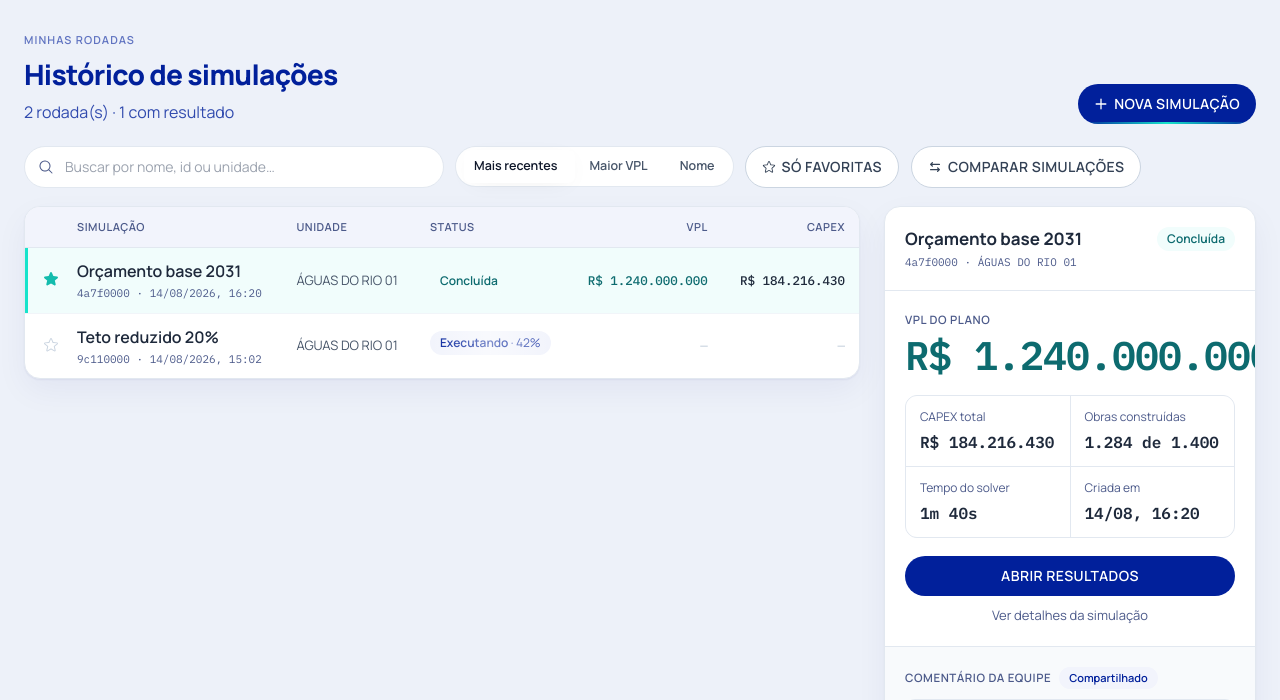
Test: Histórico — os três estados compartilhados › lista vazia POR FILTRO diz que é o filtro, não ausência de dado
Type "zzzznadaexiste" into the field with placeholder "Buscar por nome, id ou unidade…".
click(234, 166); type("zzzznadaexiste")  # box 24,146 -> 444,188
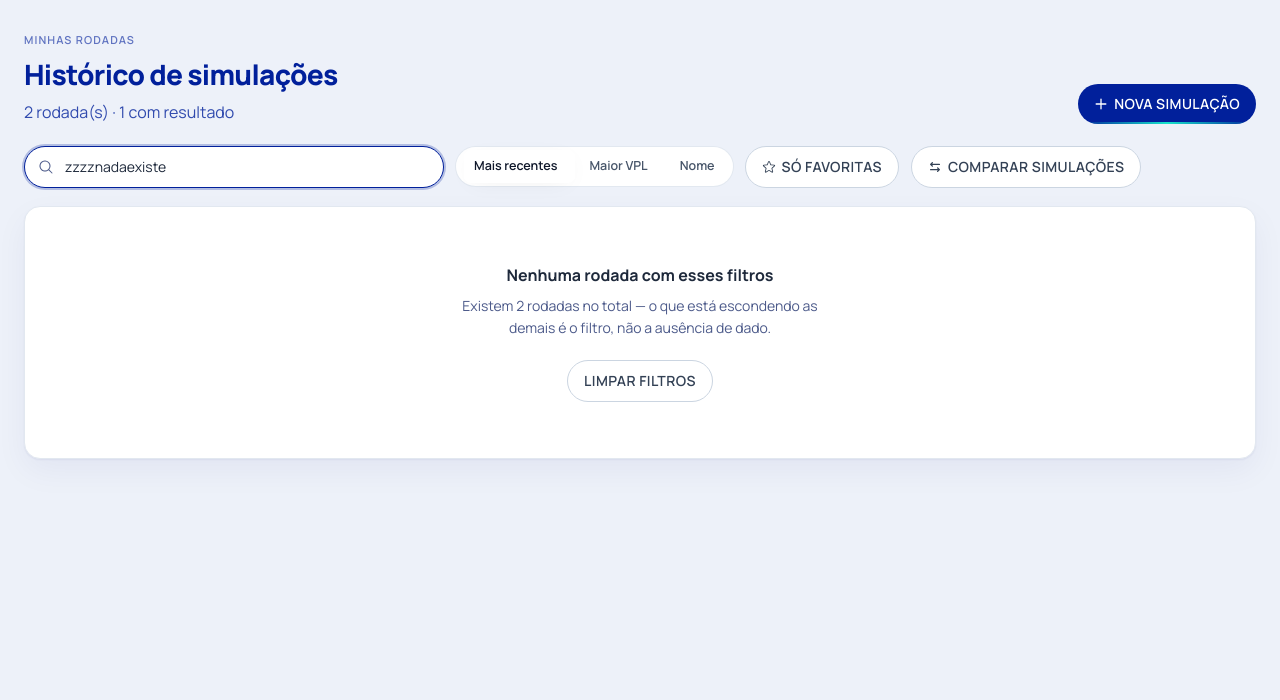
Expected: the text "Nenhuma rodada com esses filtros" is shown, 507,264 -> 774,286
Expected: the text "o que está escondendo as demais é o filtro" is shown, 509,296 -> 818,337
